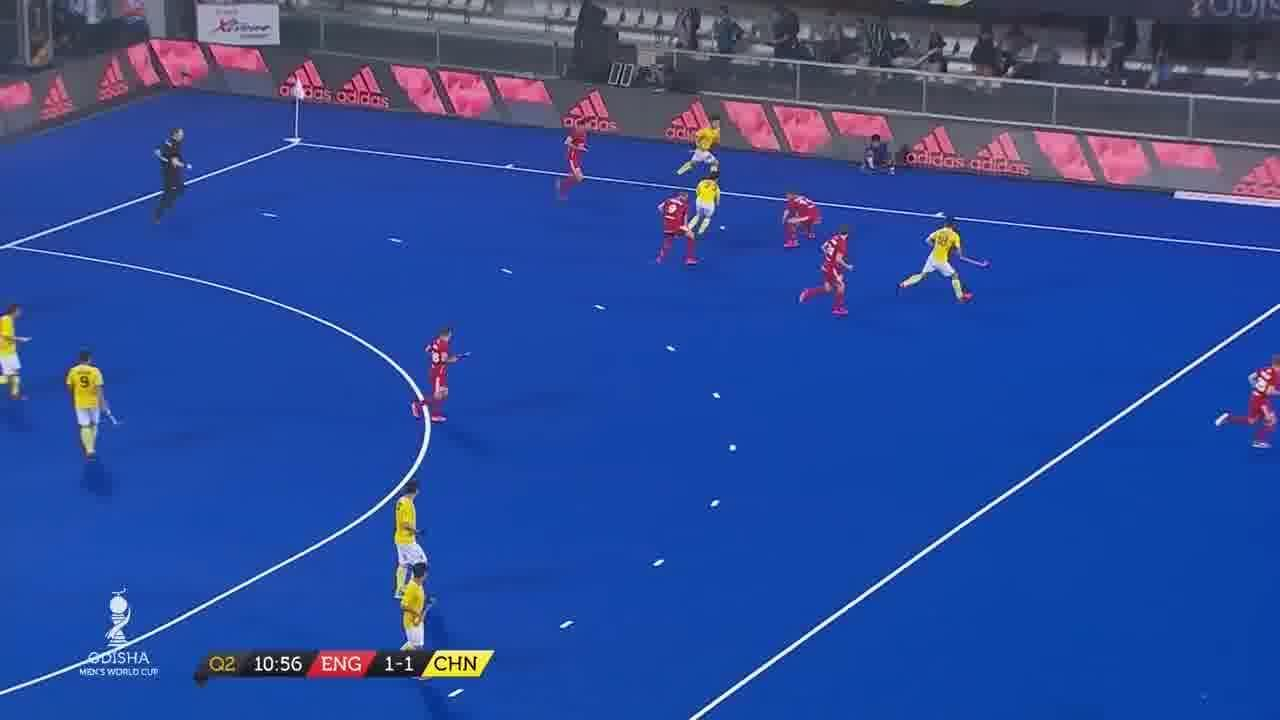ball: (716, 223, 728, 233)
